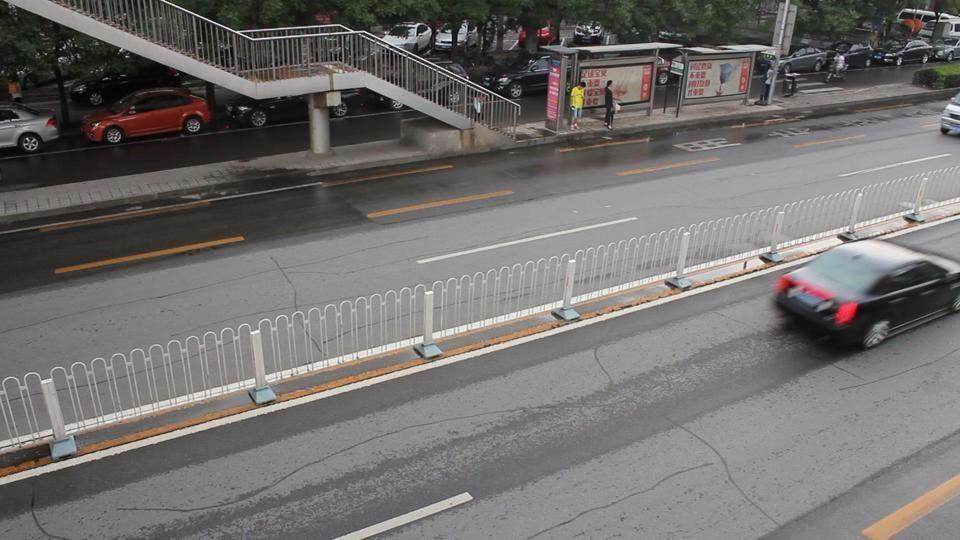car: (770, 233, 960, 350), (78, 88, 218, 146), (72, 72, 186, 109), (480, 56, 554, 100), (0, 103, 60, 154), (774, 48, 846, 77), (383, 22, 433, 54), (880, 43, 939, 66), (838, 44, 879, 69), (940, 94, 960, 138), (930, 43, 960, 63)
